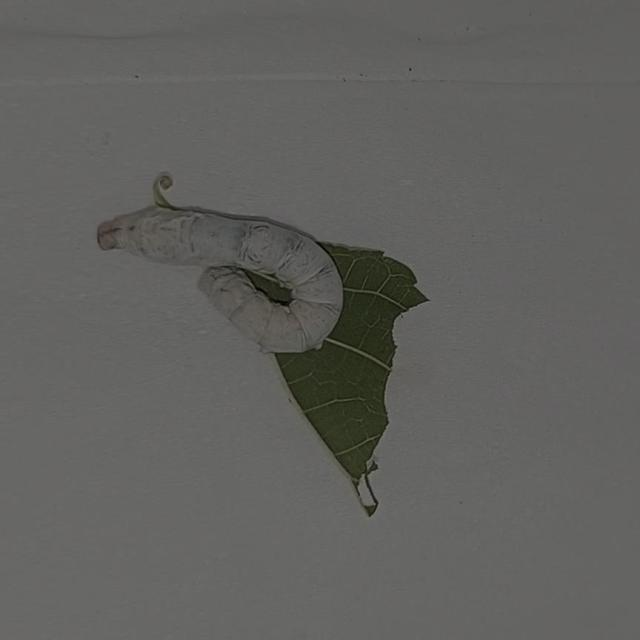Healthy: (83, 194, 367, 374)
